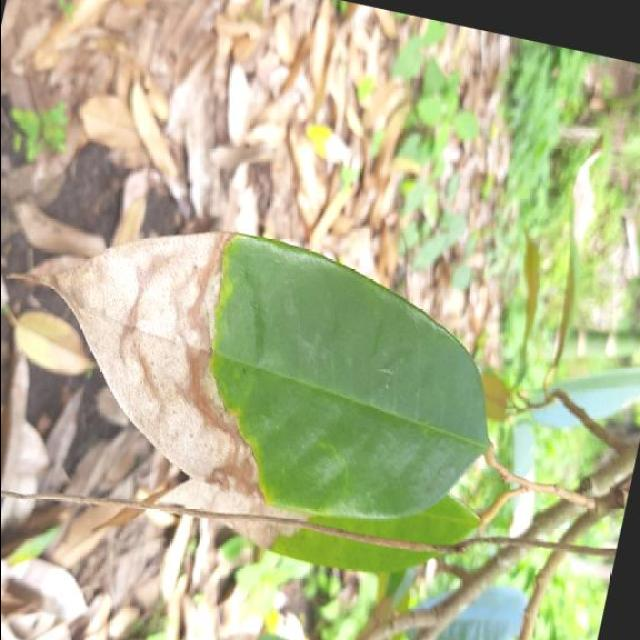Leaf Blight: (0, 181, 539, 607)
